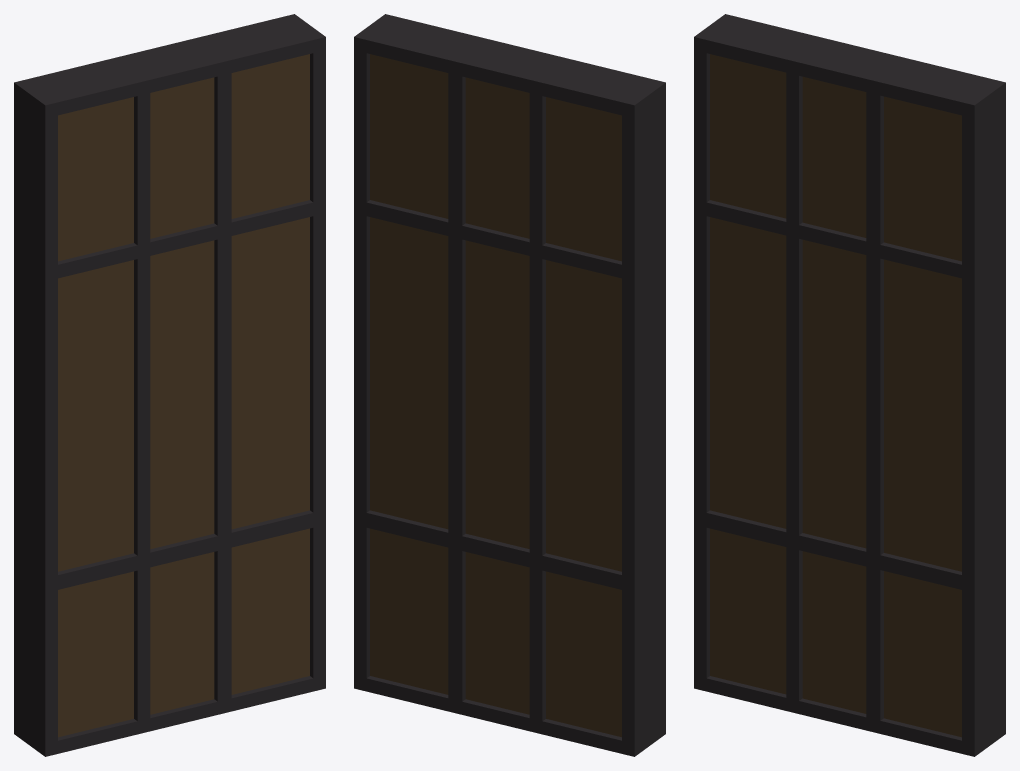
File: Door Flat.fbx
3 renders of one model, left to right at view 1: azimuth 30°, elevation 25°; view 2: azimuth 150°, elevation 25°; view 3: azimuth 330°, elevation 25°, orthographic.
Visible parts, largest first — view 1: Plane.002; view 2: Plane.002; view 3: Plane.002.
Part boxes in pixels (x1,y1,x2,y2): Plane.002: (14,14,325,756); Plane.002: (354,14,665,756); Plane.002: (694,14,1005,756).
Bounding box in the file's own units: 100 × 222 × 19.34.
